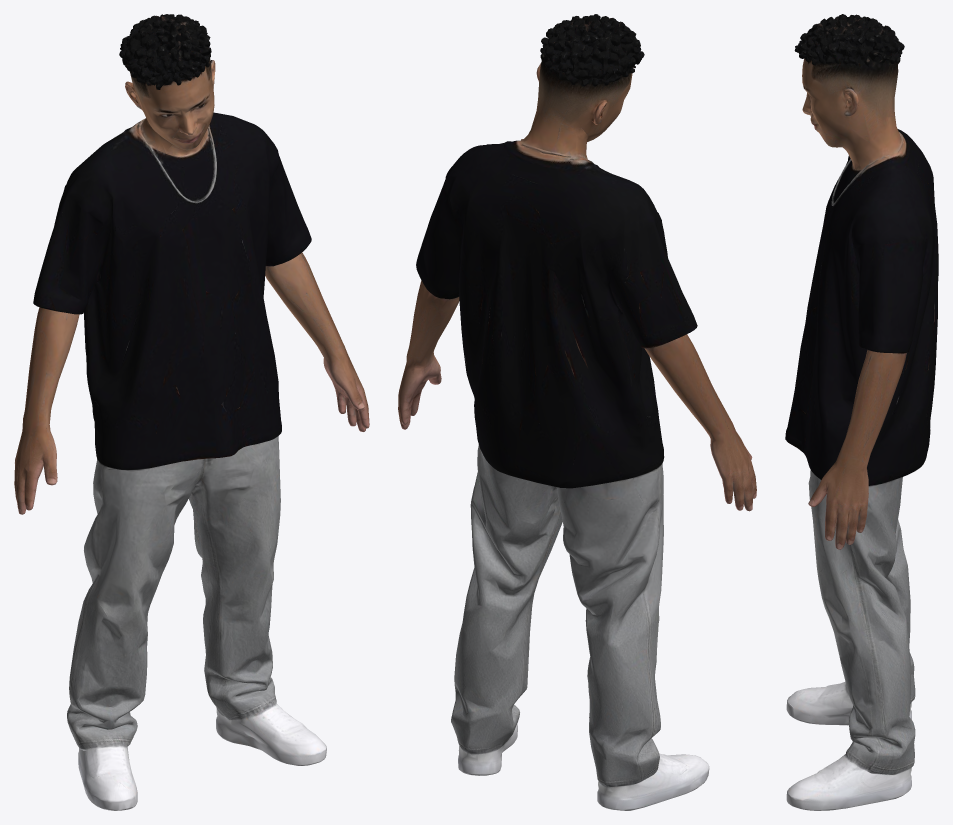
Rendered from junior-sentado.glb.
3 renders of one model, left to right at view 1: azimuth 30°, elevation 25°; view 2: azimuth 150°, elevation 25°; view 3: azimuth 270°, elevation 25°, orthographic. The views are drawn at different scales.
Parts seen in each view (by area): view 1: npc-junior-hd0; view 2: npc-junior-hd0; view 3: npc-junior-hd0.
Part boxes in pixels (x1,y1,x2,y2): npc-junior-hd0: [14, 14, 369, 810]; npc-junior-hd0: [398, 14, 756, 810]; npc-junior-hd0: [785, 14, 938, 810].
Size of the model in its own units: 0.9207 by 1.9 by 0.3616.
Materials: 1 (1 with a texture image).
